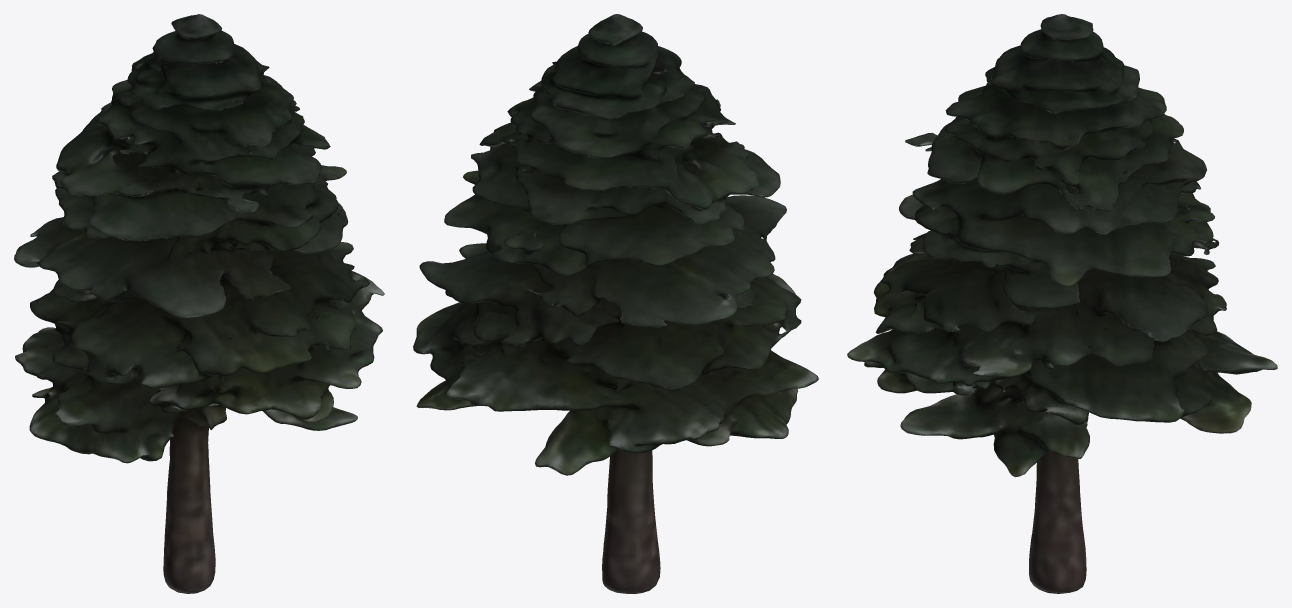
Rendered from pine_tree_high.glb.
3 views of the same model, side by side, from view 1: azimuth 30°, elevation 25°; view 2: azimuth 150°, elevation 25°; view 3: azimuth 270°, elevation 25° (orthographic). The views are drawn at different scales.
Parts seen in each view (by area): view 1: world; view 2: world; view 3: world.
Boxes of the visible parts, left/top/right/bottom form: world: left=14, top=14, right=384, bottom=593; world: left=413, top=14, right=818, bottom=593; world: left=847, top=14, right=1277, bottom=593.
Bounding box in the file's own units: 0.3627 × 0.5997 × 0.4037.
Materials: 1 (1 with a texture image).
